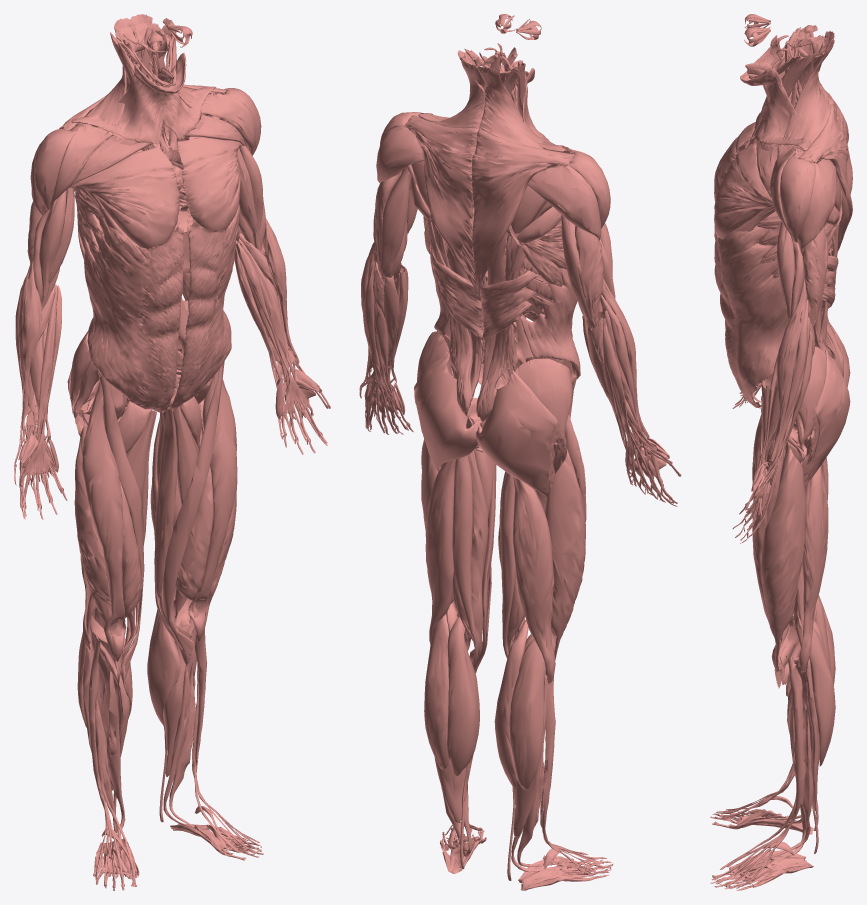
File: musculos.glb
3 views of the same model, side by side, from view 1: azimuth 30°, elevation 25°; view 2: azimuth 150°, elevation 25°; view 3: azimuth 270°, elevation 25° (orthographic).
Visible parts, largest first — view 1: FJ1452, FJ1452M, FJ1464, FJ1433, FJ1464M, FJ1433M, FJ1434M, FJ1442, FJ1587, FJ1421M, FJ1434, FJ1443M (+42 smaller); view 2: FJ1418, FJ1395, FJ1442, FJ1520M, FJ1520, FJ1418M, FJ1394, FJ1397M, FJ1395M, FJ1452, FJ1436M, FJ1394M (+42 smaller); view 3: FJ1452M, FJ1442M, FJ1395M, FJ1464M, FJ1418M, FJ1406M, FJ1558, FJ1467M, FJ1521M, FJ1394M, FJ1487M, FJ1513M (+33 smaller).
Boxes of the visible parts, <box> form: FJ1452: <box>84,216,183,412</box>; FJ1452M: <box>168,204,240,409</box>; FJ1464: <box>68,146,180,248</box>; FJ1433: <box>82,380,126,661</box>; FJ1464M: <box>177,137,242,232</box>; FJ1433M: <box>188,369,237,641</box>; FJ1434M: <box>163,361,224,664</box>; FJ1442: <box>74,425,115,660</box>; FJ1587: <box>71,64,175,144</box>; FJ1421M: <box>154,407,191,639</box>; FJ1434: <box>98,372,144,678</box>; FJ1443M: <box>176,418,213,617</box>; FJ1418: <box>476,370,560,497</box>; FJ1395: <box>513,476,555,683</box>; FJ1442: <box>545,444,585,659</box>; FJ1520M: <box>414,131,480,298</box>; FJ1520: <box>471,154,557,298</box>; FJ1418M: <box>414,355,478,471</box>; FJ1394: <box>509,639,545,789</box>; FJ1397M: <box>447,616,479,775</box>; FJ1395M: <box>425,459,456,644</box>; FJ1452: <box>520,268,580,378</box>; FJ1436M: <box>452,455,478,666</box>; FJ1394M: <box>424,614,448,769</box>; FJ1452M: <box>714,225,788,408</box>; FJ1442M: <box>761,441,806,671</box>; FJ1395M: <box>798,464,828,672</box>; FJ1464M: <box>714,143,773,238</box>; FJ1418M: <box>801,349,850,485</box>; FJ1406M: <box>711,655,805,888</box>; FJ1558: <box>740,69,810,150</box>; FJ1467M: <box>780,155,815,242</box>; FJ1521M: <box>783,40,834,144</box>; FJ1394M: <box>793,620,835,766</box>; FJ1487M: <box>769,274,806,463</box>; FJ1513M: <box>798,159,837,250</box>.
Size of the model in its own units: 0.6388 by 1.61 by 0.251.
